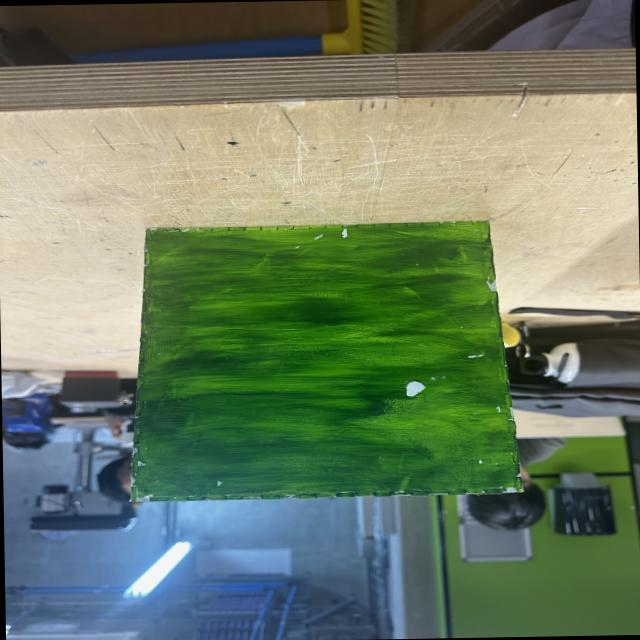green_bin: (120, 218, 523, 504)
